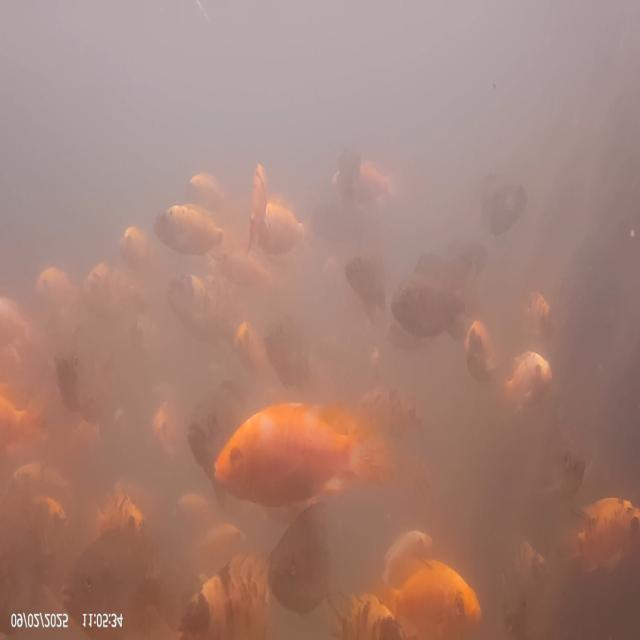ikan: (212, 399, 389, 510), (389, 238, 486, 340), (376, 555, 482, 637), (246, 162, 305, 256)
